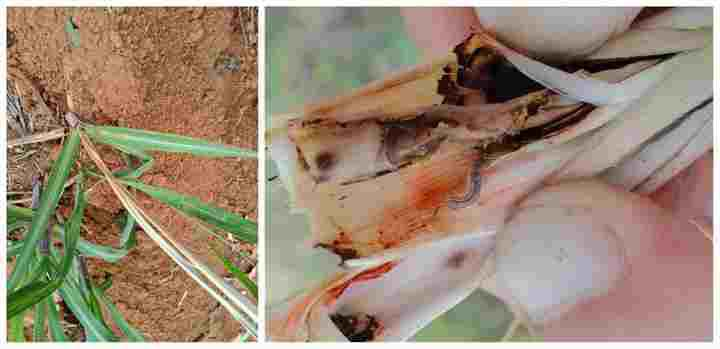pest: (422, 152, 501, 227)
